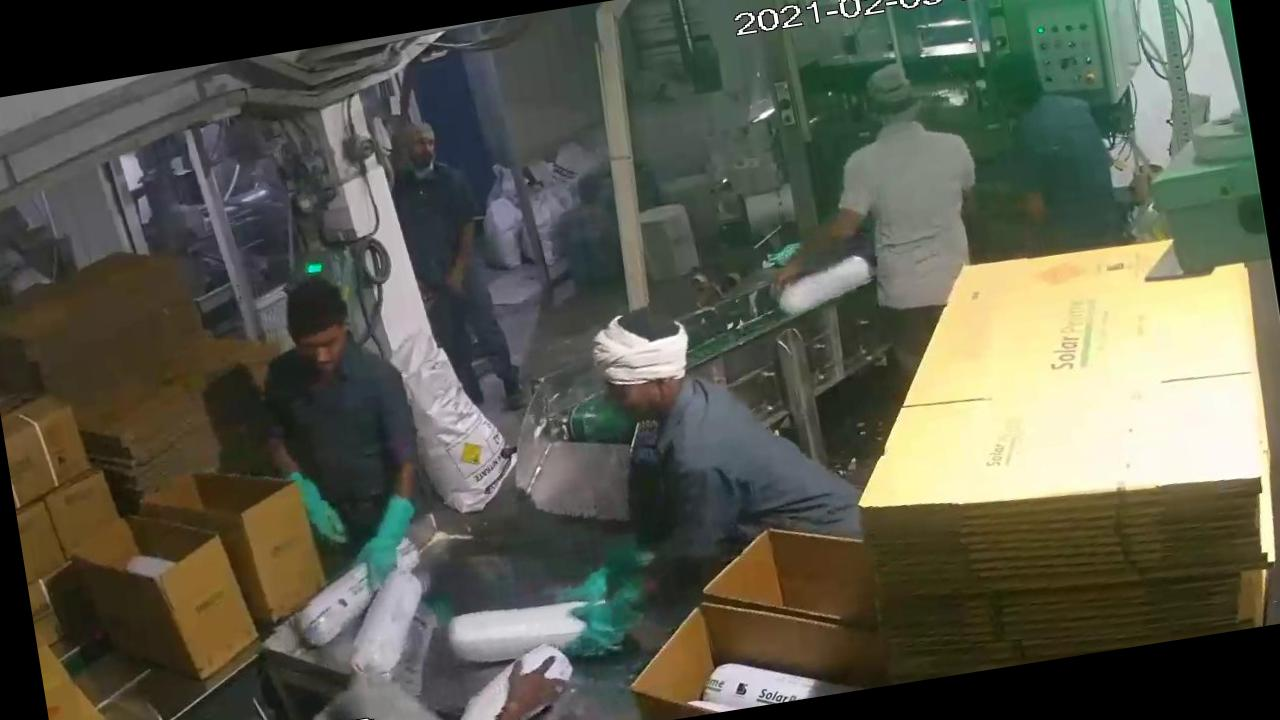Gloves: (538, 576, 686, 684), (260, 449, 372, 560), (333, 478, 429, 590)
No-gloves: (744, 204, 871, 286), (455, 635, 575, 720), (422, 212, 503, 298)
